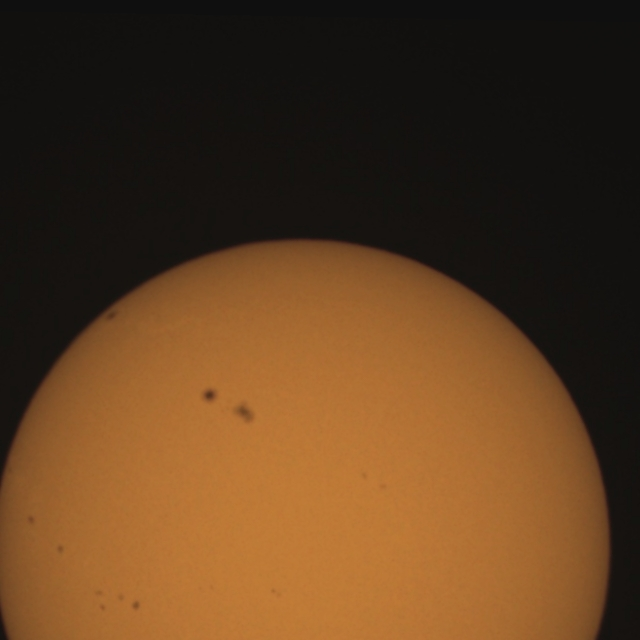sunspot: (200, 388, 257, 427), (231, 399, 258, 427), (108, 592, 140, 613), (361, 471, 388, 492), (199, 386, 220, 406), (94, 590, 108, 612), (104, 308, 120, 324), (197, 584, 215, 594), (130, 598, 142, 612), (270, 587, 283, 599), (26, 514, 37, 527), (55, 543, 66, 556), (360, 470, 369, 482)
